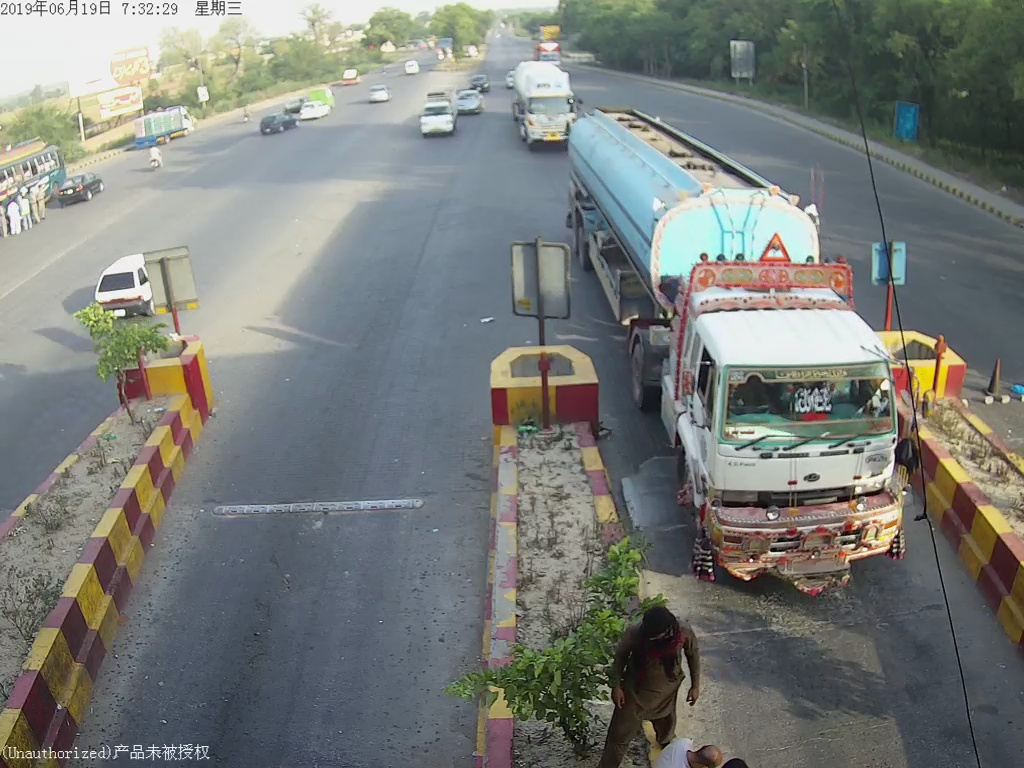Cat-5: (568, 110, 912, 581)
